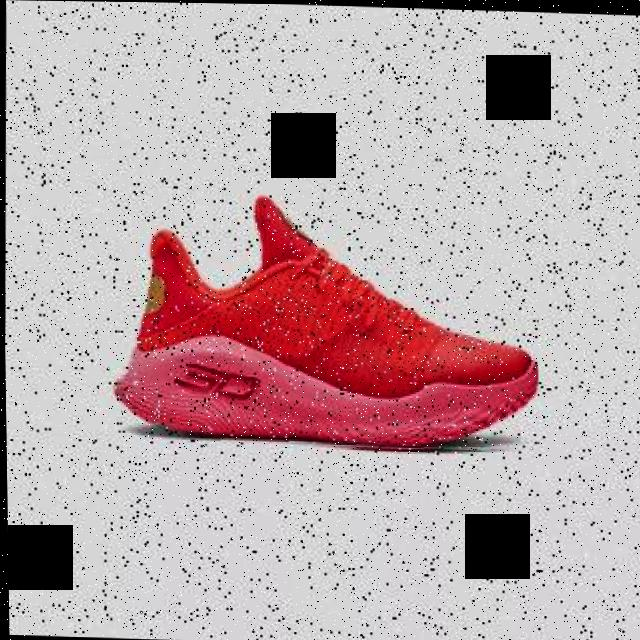shoe: (111, 193, 540, 455)
